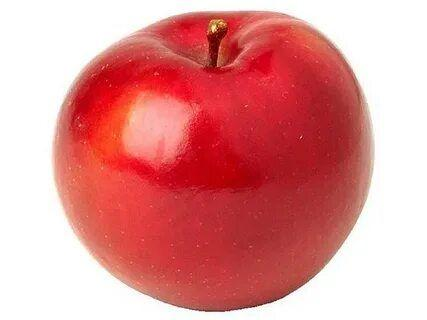Apple: (51, 10, 376, 309)
